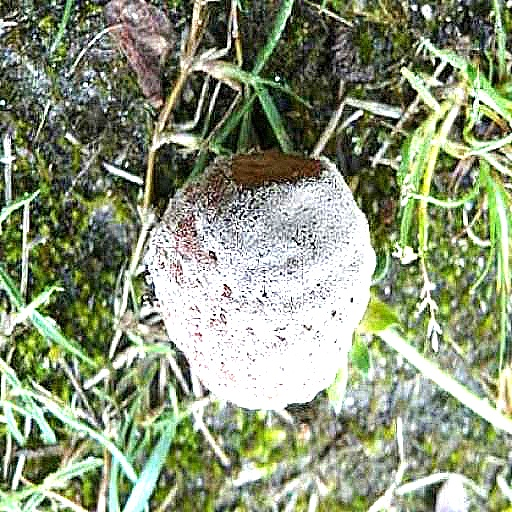Gray Mold: (144, 102, 379, 360)
